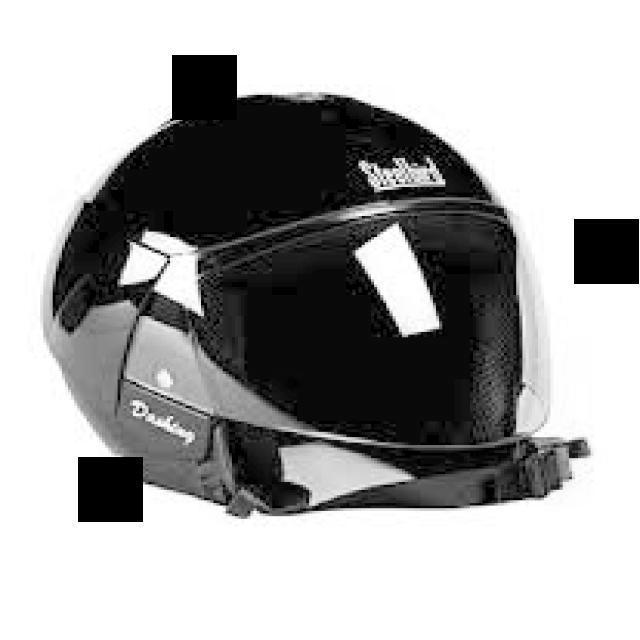helmet: (41, 60, 590, 518)
